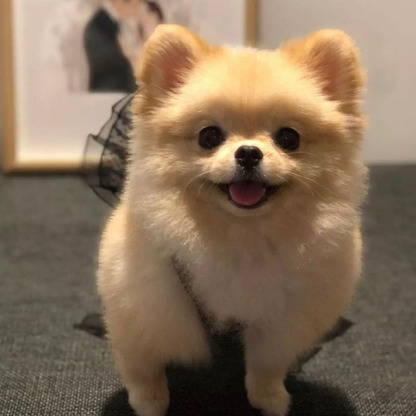Pomeranian: (104, 24, 374, 390)
